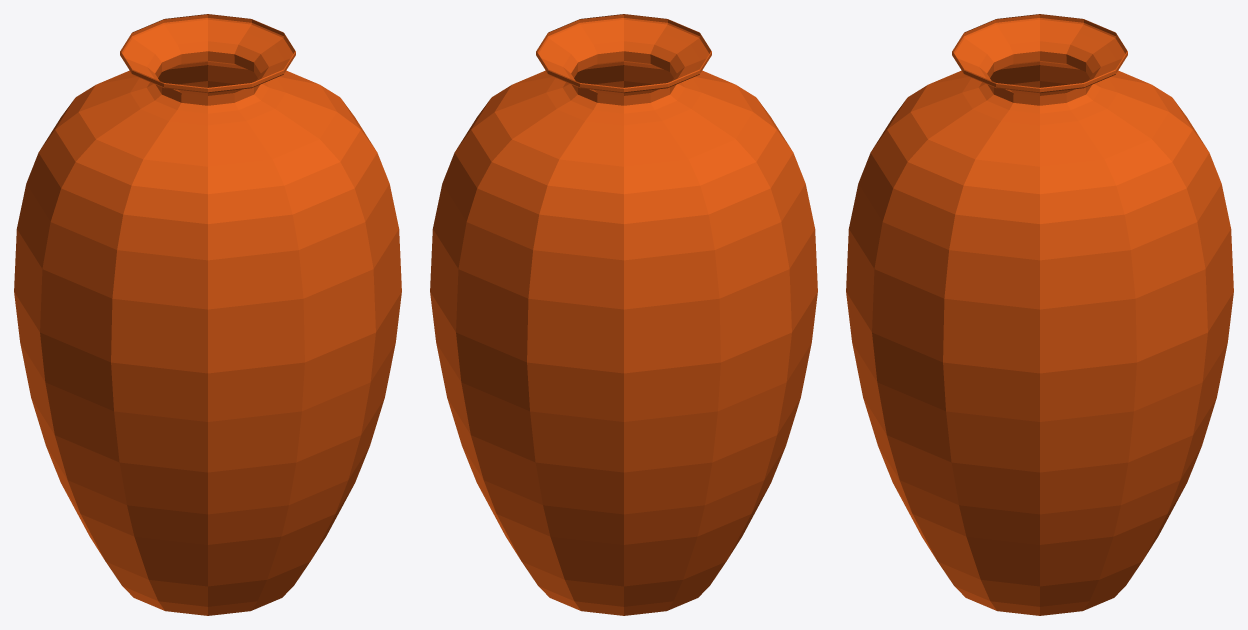
The model's file is CtrlAlt_Vase_1.fbx.
The picture shows the model from 3 angles, left to right: view 1: azimuth 30°, elevation 25°; view 2: azimuth 150°, elevation 25°; view 3: azimuth 270°, elevation 25°; orthographic projection.
Visible parts, largest first — view 1: Cube; view 2: Cube; view 3: Cube.
Part boxes in pixels (bbox=[...]): Cube: bbox=[14, 14, 401, 615]; Cube: bbox=[430, 14, 817, 615]; Cube: bbox=[846, 14, 1233, 615].
Size of the model in its own units: 226 by 348 by 226.
